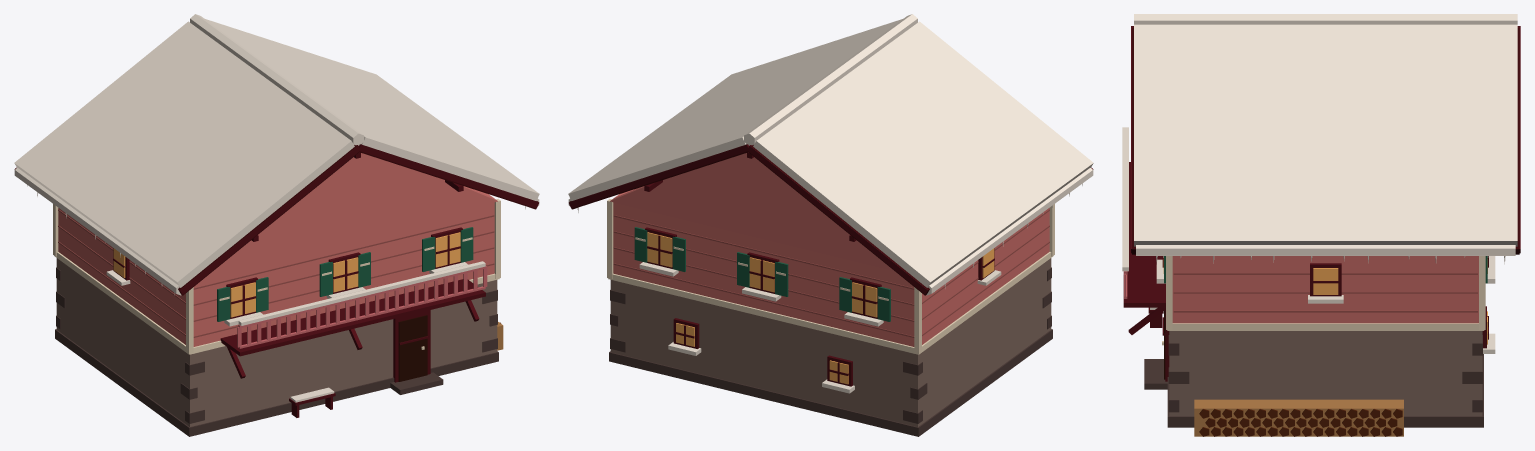
File: rs_chalet_wide.glb
The picture shows the model from 3 angles, left to right: view 1: azimuth 30°, elevation 25°; view 2: azimuth 150°, elevation 25°; view 3: azimuth 270°, elevation 25°; orthographic projection. The views are drawn at different scales.
Parts seen in each view (by area): view 1: roof, body, balcony, door; view 2: roof, body; view 3: roof, body, balcony, door.
Part boxes in pixels (bbox=[...]): roof: bbox=[14, 14, 539, 295]; body: bbox=[53, 189, 503, 436]; balcony: bbox=[220, 261, 487, 378]; door: bbox=[390, 310, 443, 394]; roof: bbox=[568, 14, 1093, 295]; body: bbox=[607, 189, 1054, 436]; roof: bbox=[1131, 14, 1520, 264]; body: bbox=[1148, 256, 1495, 436]; balcony: bbox=[1122, 127, 1165, 334]; door: bbox=[1144, 310, 1169, 389].
Size of the model in its own units: 11.81 by 8.59 by 9.55.
